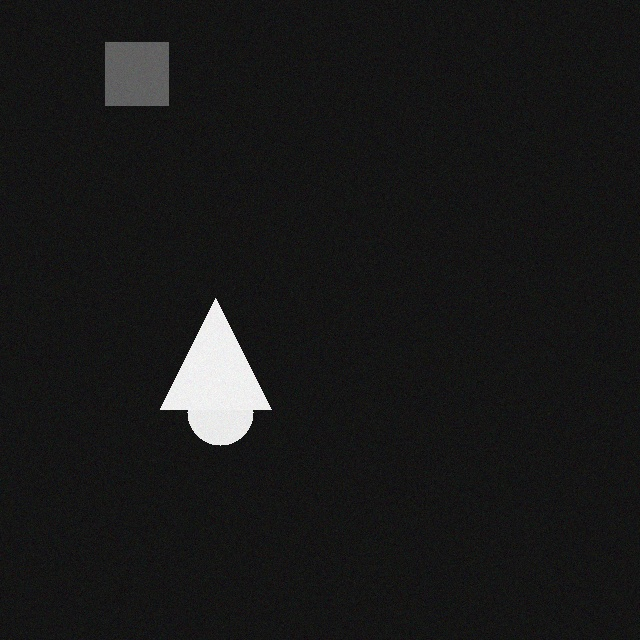circle: (183, 391, 249, 457)
square: (101, 54, 164, 117)
triangle: (156, 310, 267, 421)
